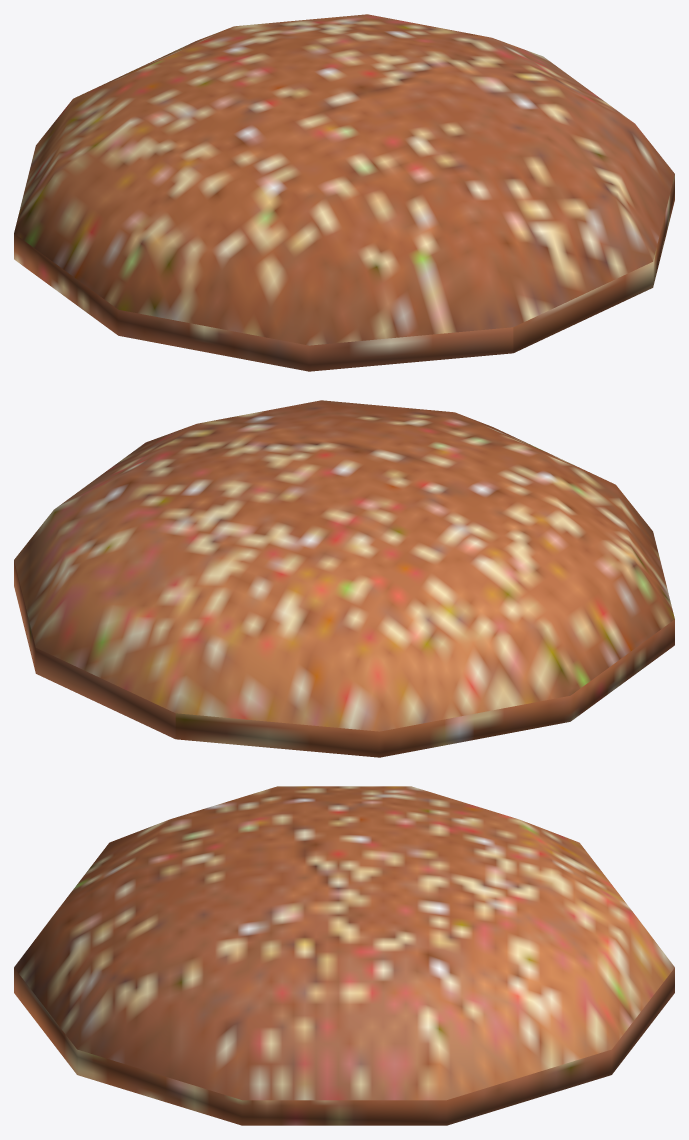
The model's file is bun_top.glb.
The picture shows the model from 3 angles, top to bottom: view 1: azimuth 30°, elevation 25°; view 2: azimuth 150°, elevation 25°; view 3: azimuth 270°, elevation 25°; orthographic projection. The views are drawn at different scales.
Parts seen in each view (by area): view 1: BunTop; view 2: BunTop; view 3: BunTop.
Part boxes in pixels (x1,y1,x2,y2): BunTop: (14,14,674,371); BunTop: (14,400,674,757); BunTop: (14,786,674,1125).
Size of the model in its own units: 1.87 by 0.4985 by 1.97.
1 material, 1 textured.
